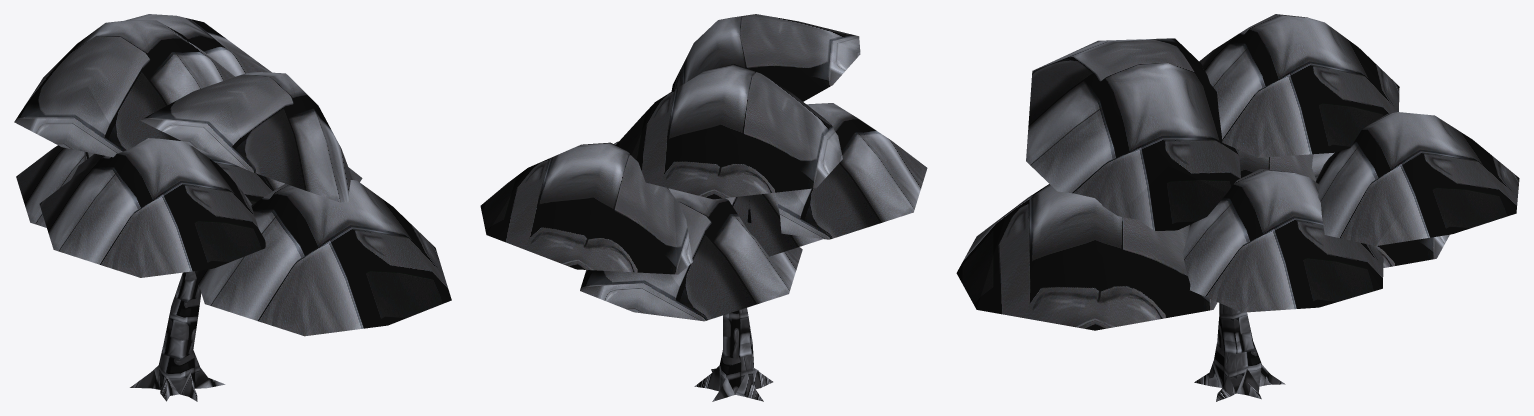
3 views of the same model, side by side, from view 1: azimuth 30°, elevation 25°; view 2: azimuth 150°, elevation 25°; view 3: azimuth 270°, elevation 25° (orthographic). The views are drawn at different scales.
Parts seen in each view (by area): view 1: 2_Cluster5, 1_Trunk; view 2: 2_Cluster5, 1_Trunk; view 3: 2_Cluster5, 1_Trunk.
Boxes of the visible parts, left/top/right/bottom form: 2_Cluster5: left=14, top=14, right=451, bottom=336; 1_Trunk: left=84, top=152, right=225, bottom=401; 2_Cluster5: left=480, top=14, right=927, bottom=321; 1_Trunk: left=694, top=200, right=772, bottom=401; 2_Cluster5: left=956, top=14, right=1519, bottom=330; 1_Trunk: left=1194, top=303, right=1285, bottom=401.
Size of the model in its own units: 175 by 172 by 245.
Materials: 1 (1 with a texture image).
